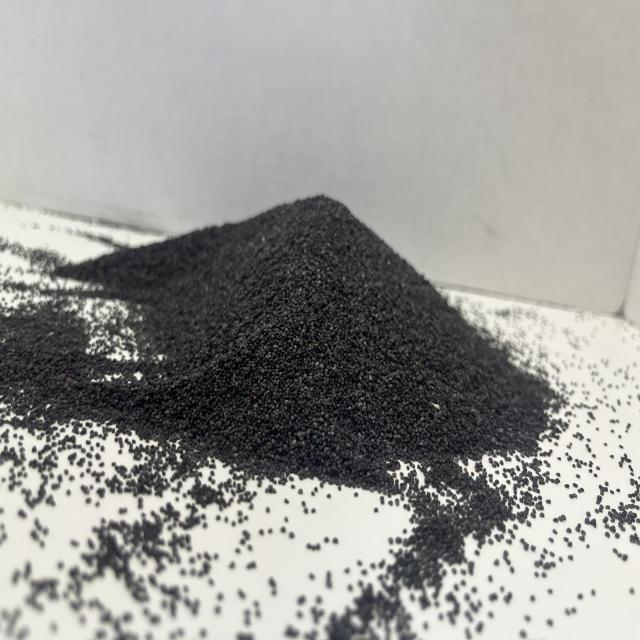Poppy Seeds: (21, 104, 596, 574)
